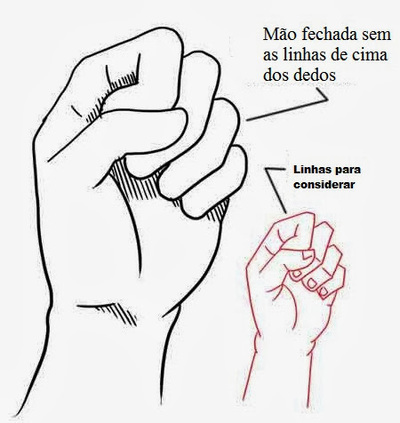closedhandfront: (17, 17, 250, 324), (244, 199, 356, 352)
